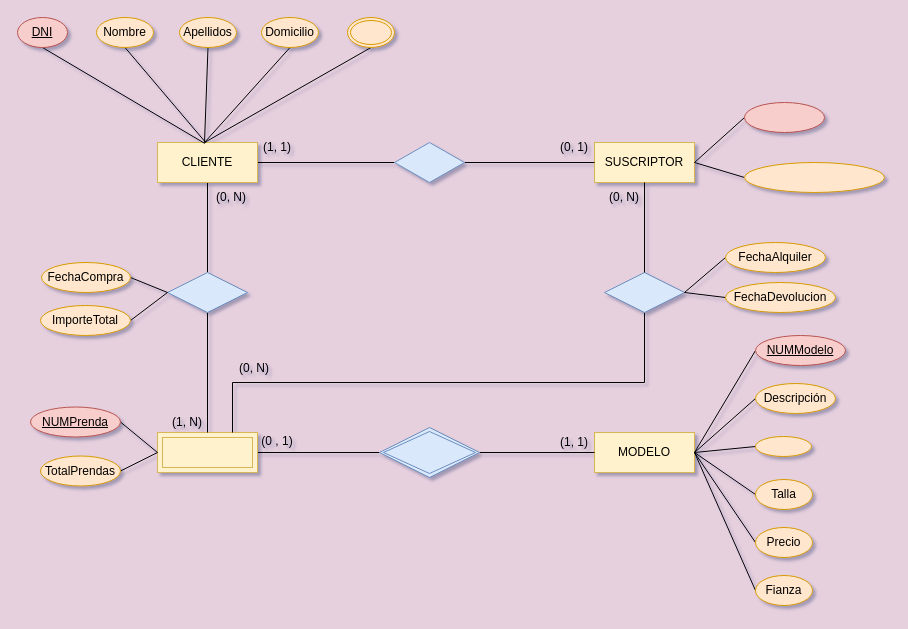
Some shapes in this 908 by 629 pixel diagram are drawn without their labels. Here are the shapes that lost their labels. From the top down, the centre of each, then its label:
the point at 370,32: Tlf
the point at 784,117: IDSuscriptor
the point at 429,162: Es
the point at 814,177: ImporteCuotaAlquiler
the point at 207,292: Compra
the point at 644,292: Alquila
the point at 207,452: PRENDA
the point at 429,452: Pertenece
the point at 783,446: Marca
